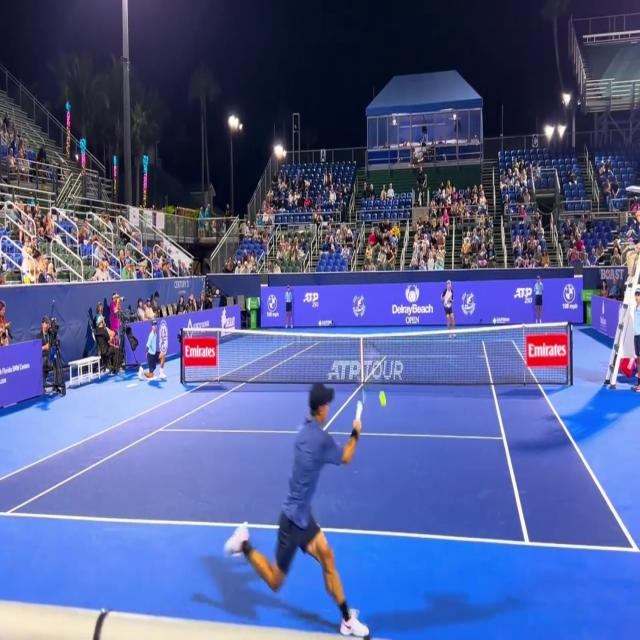tennisBall: (376, 390, 391, 412)
